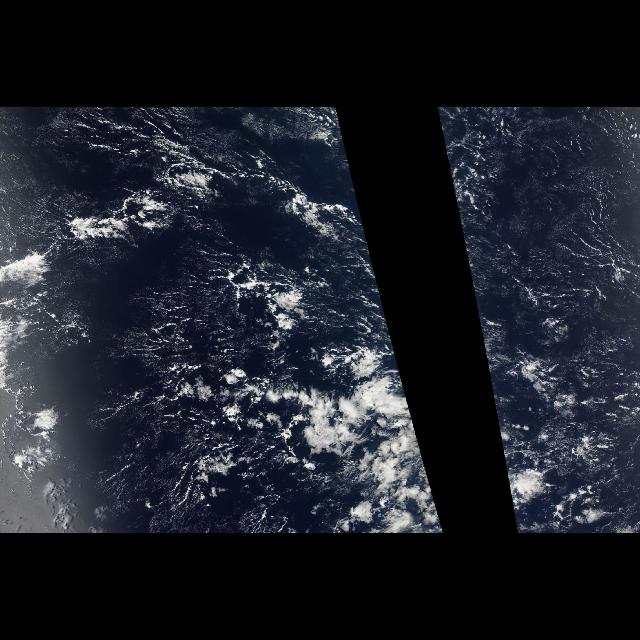Sugar: (451, 115, 639, 342)
